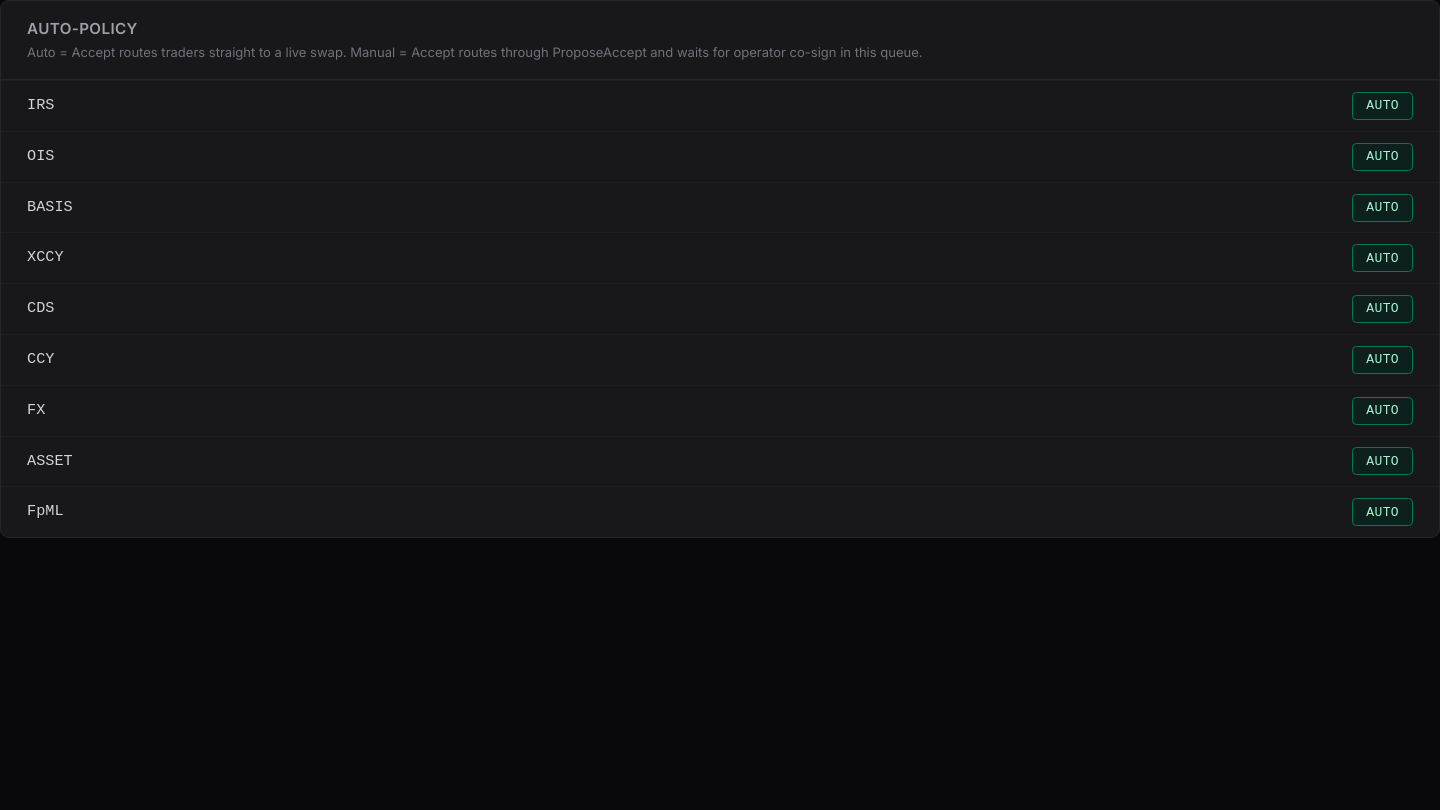
Scenario: AutoPolicyCard › renders the action error block when SetMode rejects
Click the button with test id "auto-policy-toggle-IRS": (1383, 106) [1352,92,1413,120]
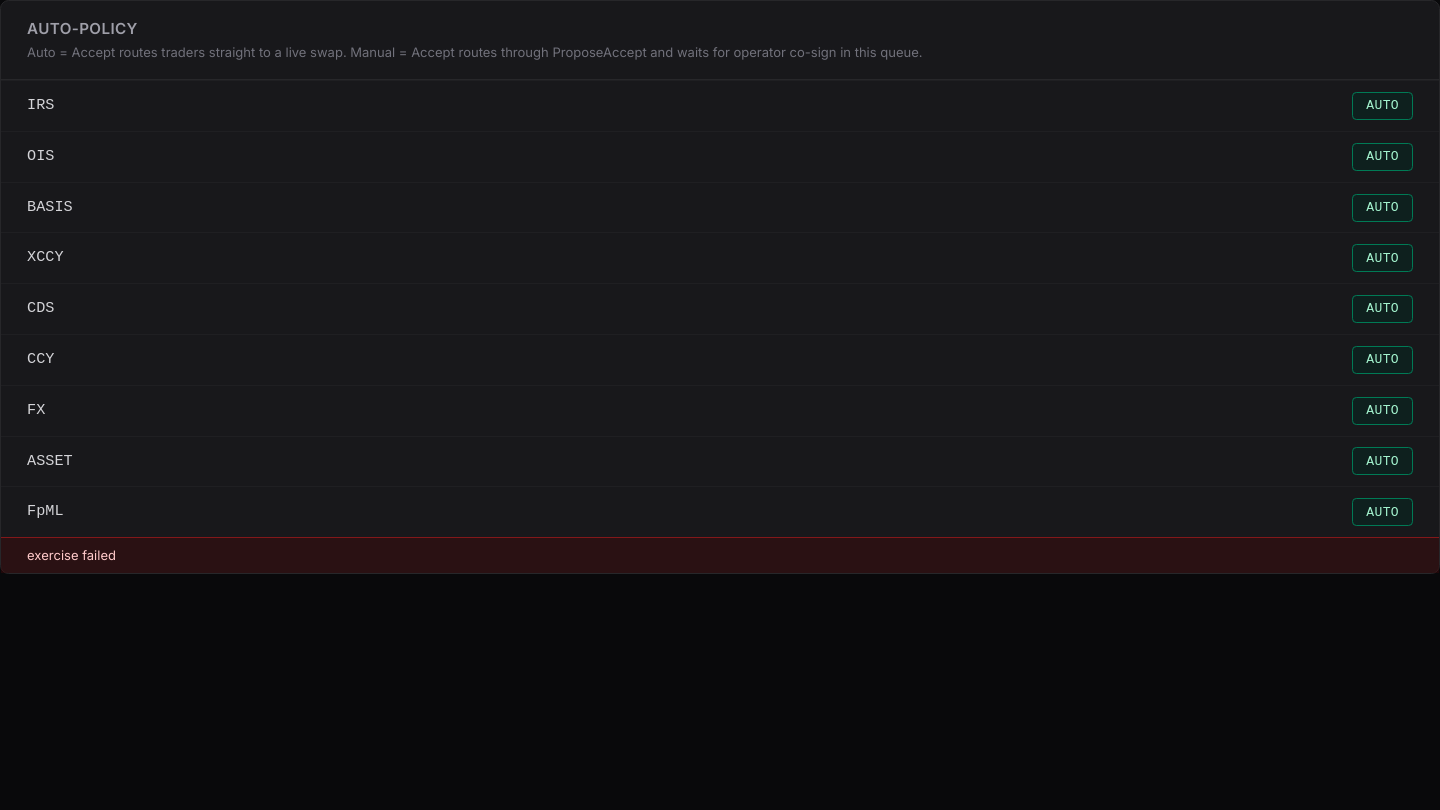
Expected: the text with test id "auto-policy-action-error" reads "exercise failed", [27,547,116,563]
